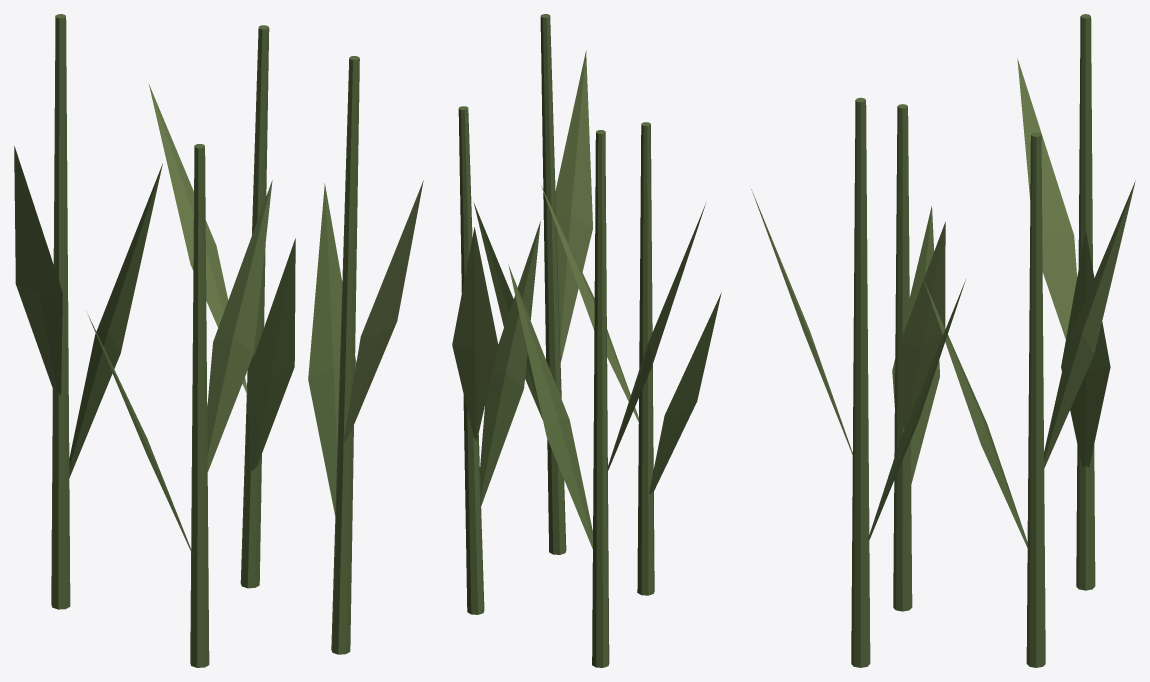
The model's file is reeds_2_spring.glb.
3 renders of one model, left to right at view 1: azimuth 30°, elevation 25°; view 2: azimuth 150°, elevation 25°; view 3: azimuth 270°, elevation 25°, orthographic. The views are drawn at different scales.
Parts seen in each view (by area): view 1: reeds_2_spring; view 2: reeds_2_spring; view 3: reeds_2_spring.
Boxes of the visible parts, left/top/right/bottom form: reeds_2_spring: left=14, top=14, right=423, bottom=667; reeds_2_spring: left=452, top=14, right=721, bottom=667; reeds_2_spring: left=751, top=14, right=1135, bottom=667.
Bounding box in the file's own units: 0.8337 × 1.65 × 1.01.
